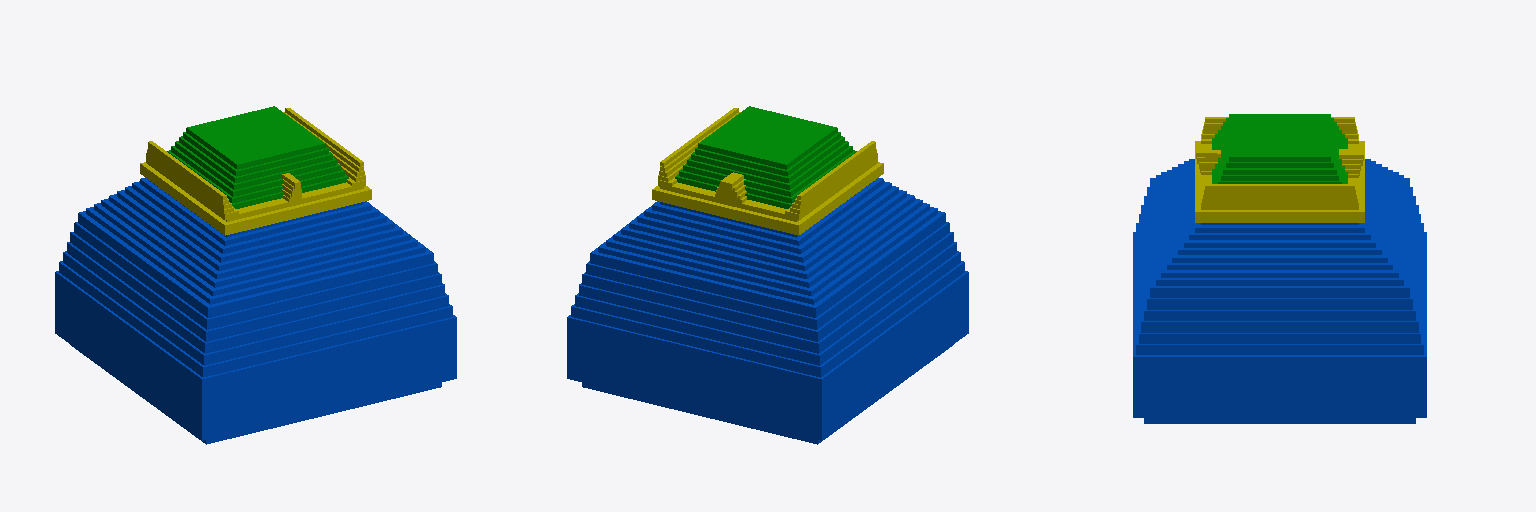
File: boss3.obj
3 renders of one model, left to right at view 1: azimuth 30°, elevation 25°; view 2: azimuth 150°, elevation 25°; view 3: azimuth 270°, elevation 25°, orthographic.
Visible parts, largest first — view 1: obj1; view 2: obj1; view 3: obj1.
Part boxes in pixels (left/top/right/bottom): obj1: left=55, top=106, right=456, bottom=444; obj1: left=567, top=106, right=968, bottom=444; obj1: left=1133, top=114, right=1426, bottom=423.
Bounding box in the file's own units: 13 × 11.75 × 13.